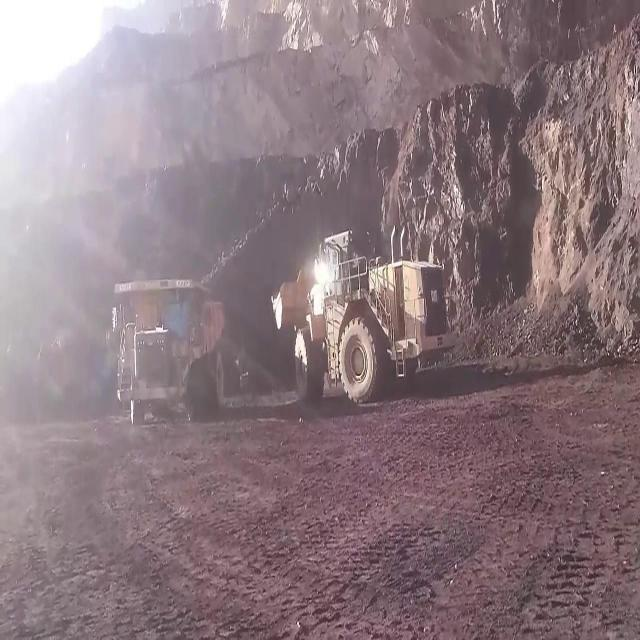Dump Truck: (96, 260, 244, 420)
Loader: (268, 218, 458, 410)
